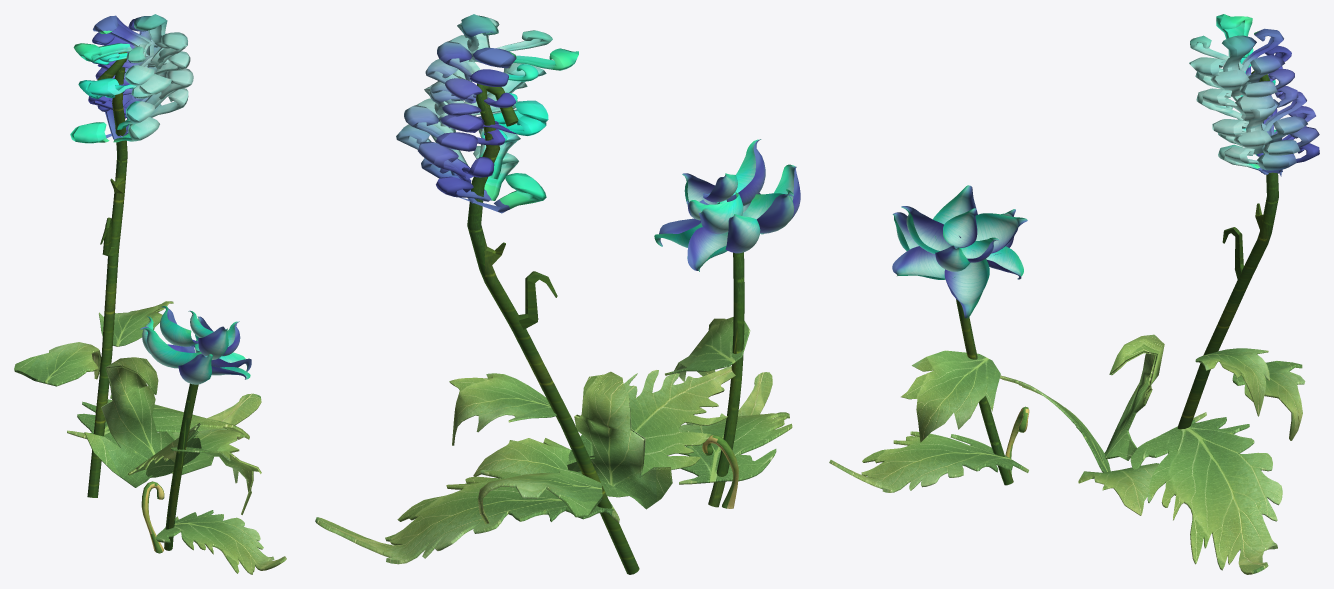
The model's file is FlowerOnRoof03.fbx.
3 renders of one model, left to right at view 1: azimuth 30°, elevation 25°; view 2: azimuth 150°, elevation 25°; view 3: azimuth 270°, elevation 25°, orthographic. The views are drawn at different scales.
Parts seen in each view (by area): view 1: polySurface4, Line283, polySurface2, Line09, Line278, Line15, Line16, Line292, Line289, Line274, Line284, Line01 (+1 smaller); view 2: polySurface4, polySurface2, Line15, Line09, Line284, Line283, Line278, Line289, Line16, Line292, Line274, Line01 (+1 smaller); view 3: Line15, polySurface4, polySurface2, Line278, Line01, Line09, Line283, Line289, Line16, Line274, Line292, Line284.
Part boxes in pixels (x1,y1,x2,y2): polySurface4: (70,14,193,143); Line283: (84,357,175,487); polySurface2: (140,306,251,384); Line09: (87,52,127,497); Line278: (156,510,286,574); Line15: (67,393,261,447); Line16: (14,342,101,386); Line292: (164,383,198,550); Line289: (99,301,173,346); Line274: (172,429,245,474); Line284: (128,423,201,477); Line01: (171,447,261,514); polySurface4: (396,14,578,213); polySurface2: (654,139,800,271); Line15: (315,470,619,564); Line09: (467,83,639,574); Line284: (568,366,735,497); Line283: (566,371,672,509); Line278: (679,372,792,484); Line289: (449,373,556,445); Line16: (477,468,602,524); Line292: (708,252,744,507); Line274: (473,438,571,476); Line01: (665,317,750,381); Line15: (1130,412,1282,574); polySurface4: (1189,14,1319,176); polySurface2: (892,185,1027,318); Line278: (829,431,1028,492); Line01: (901,350,1000,442); Line09: (1168,71,1278,453); Line283: (1104,334,1164,460); Line289: (1195,348,1269,416); Line16: (1232,361,1305,440); Line274: (1078,463,1159,515); Line292: (956,299,1013,485); Line284: (999,375,1110,472).
Size of the model in its own units: 124 by 210 by 188.
Materials: 4 (4 with a texture image).
